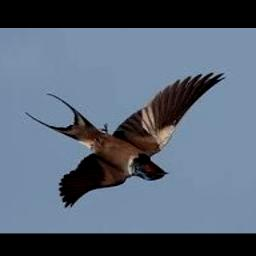Swallow: (25, 74, 228, 209)
